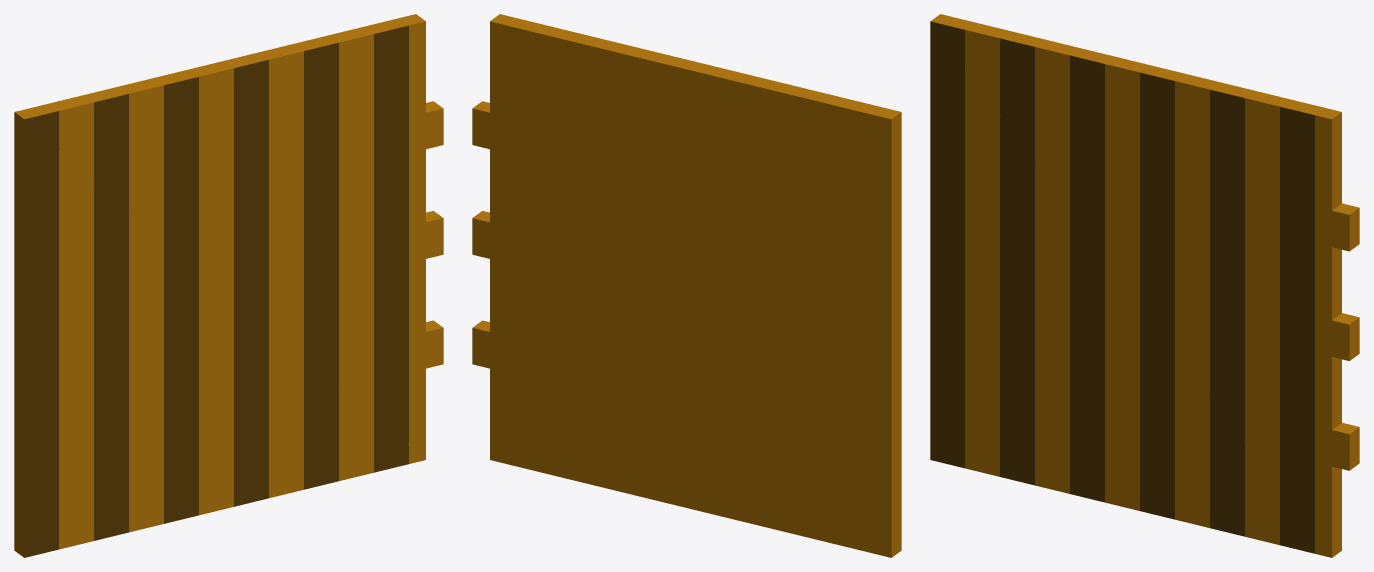
Rendered from fencegate.gltf.
3 renders of one model, left to right at view 1: azimuth 30°, elevation 25°; view 2: azimuth 150°, elevation 25°; view 3: azimuth 330°, elevation 25°, orthographic.
Parts seen in each view (by area): view 1: mesh (×4); view 2: mesh (×4); view 3: mesh (×4).
Part boxes in pixels (x1,y1,x2,y2): mesh (×4): [14, 14, 443, 557]; mesh (×4): [472, 14, 901, 557]; mesh (×4): [930, 14, 1359, 557].
Size of the model in its own units: 3 by 3 by 0.125.
1 material, 1 textured.
